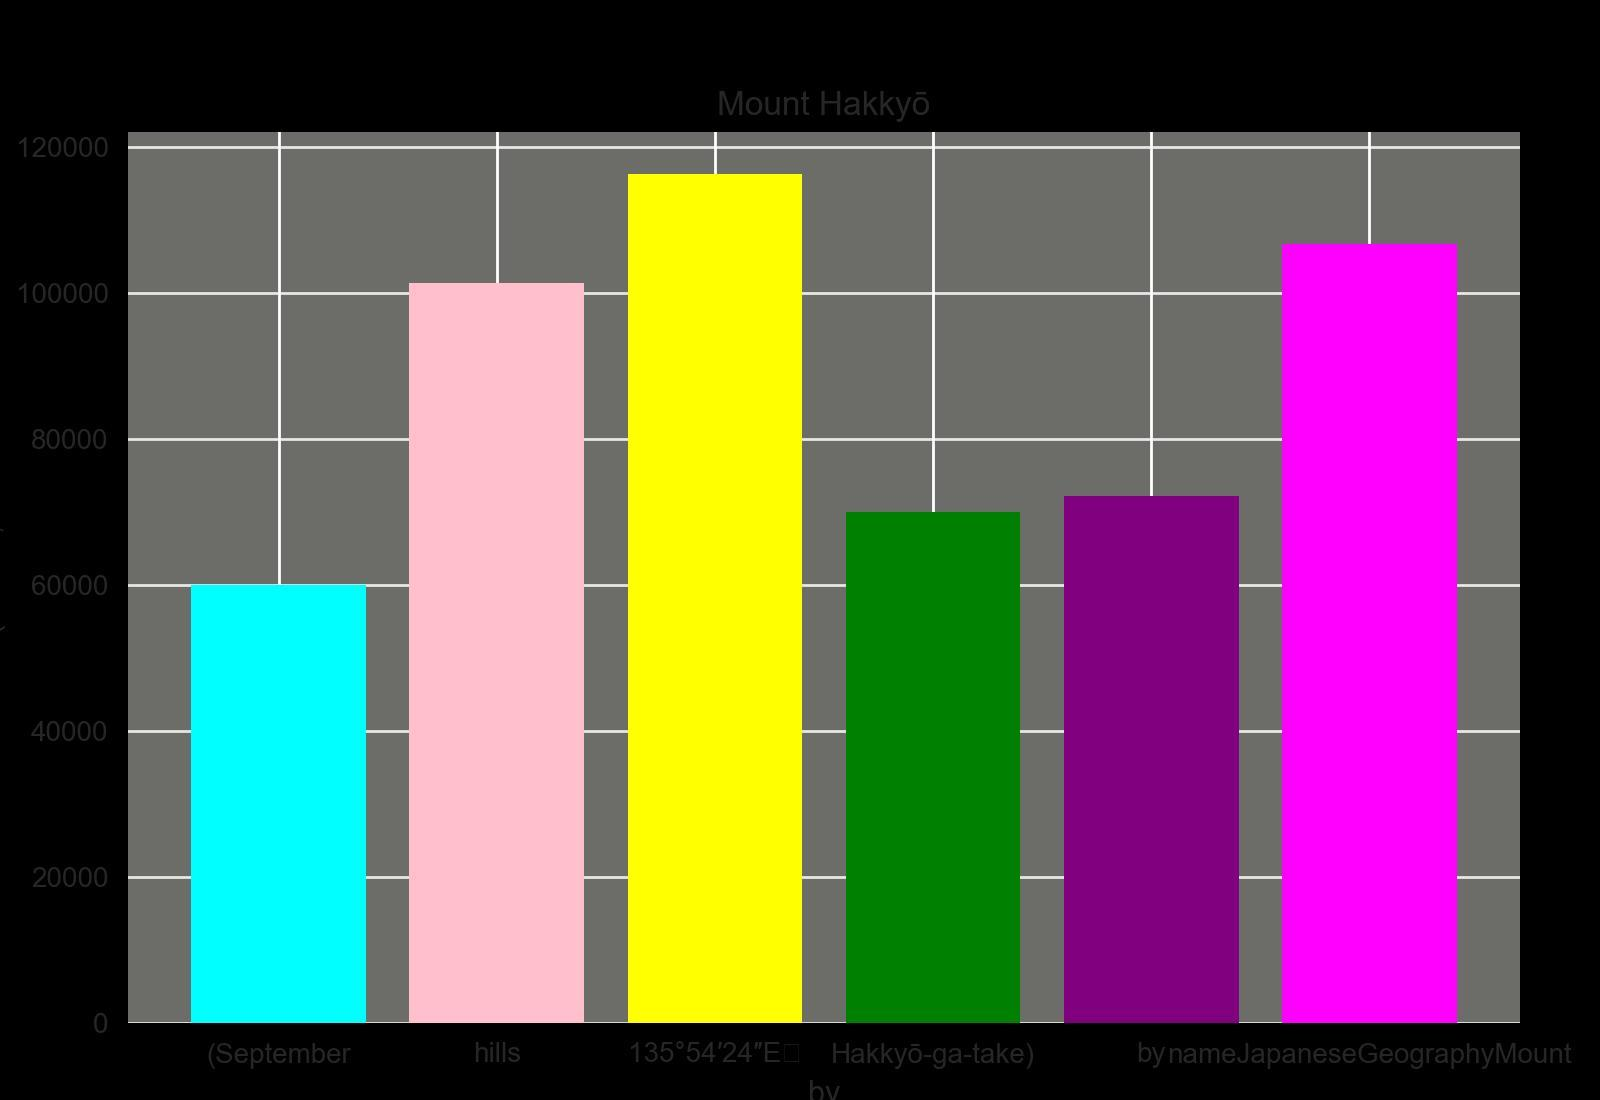axis: (0, 137, 109, 1039)
rectangle: (627, 174, 802, 1023), (1281, 244, 1457, 1023), (409, 283, 584, 1023), (1064, 496, 1239, 1023), (845, 512, 1020, 1023), (191, 585, 366, 1023)
